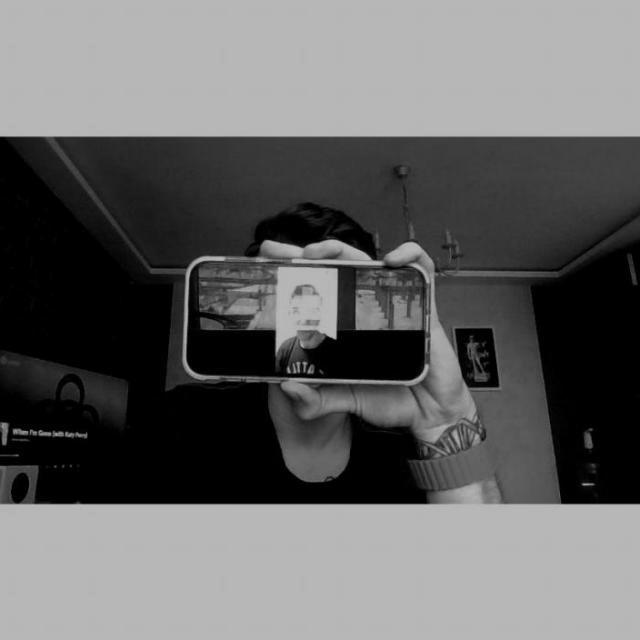fake: (176, 248, 442, 398)
